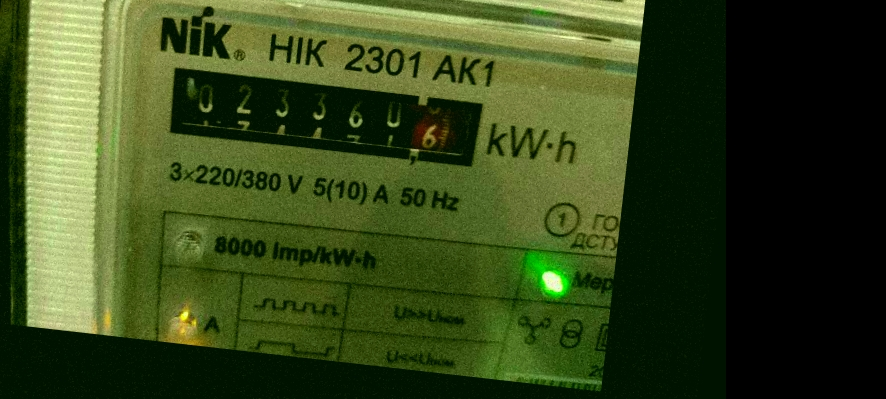0: (192, 79, 217, 114), (383, 96, 403, 129)
2: (230, 80, 257, 116)
3: (268, 84, 293, 118), (307, 88, 330, 121)
6: (343, 95, 366, 129), (416, 118, 440, 149)
screen: (146, 47, 497, 183)
